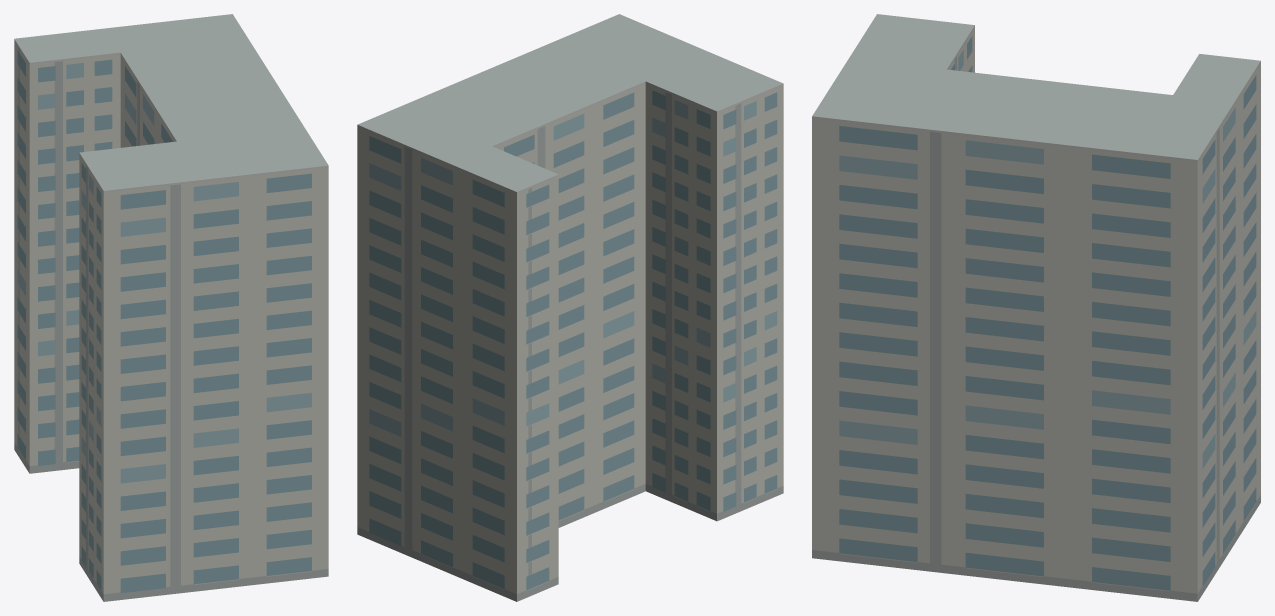
File: residential-29c7556e-b7c6-42cd-9ede-2768d4708e83.glb
3 views of the same model, side by side, from view 1: azimuth 30°, elevation 25°; view 2: azimuth 150°, elevation 25°; view 3: azimuth 270°, elevation 25° (orthographic). The views are drawn at different scales.
Visible parts, largest first — view 1: residential-29c7556e-b7c6-42cd-9ede-2768d4708e83.tmp; view 2: residential-29c7556e-b7c6-42cd-9ede-2768d4708e83.tmp; view 3: residential-29c7556e-b7c6-42cd-9ede-2768d4708e83.tmp.
Part boxes in pixels (x1,y1,x2,y2): residential-29c7556e-b7c6-42cd-9ede-2768d4708e83.tmp: (14, 14, 328, 601); residential-29c7556e-b7c6-42cd-9ede-2768d4708e83.tmp: (357, 14, 783, 601); residential-29c7556e-b7c6-42cd-9ede-2768d4708e83.tmp: (812, 14, 1260, 601).
Size of the model in its own units: 35.44 by 50 by 46.03.
